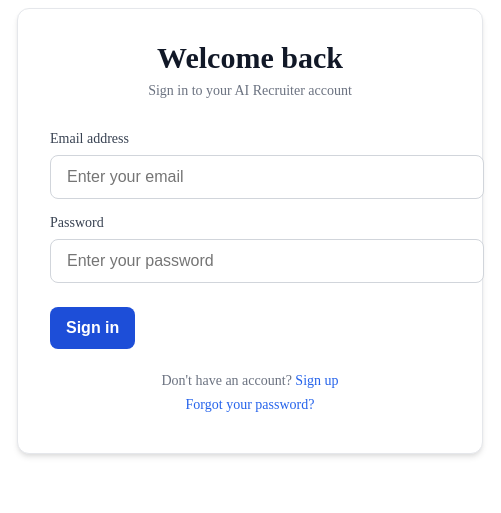
Scenario: LoginForm › validates required fields and formats
This screenshot has width=501, height=513.
Click the button "Sign in": (93, 328) [50,307,135,349]
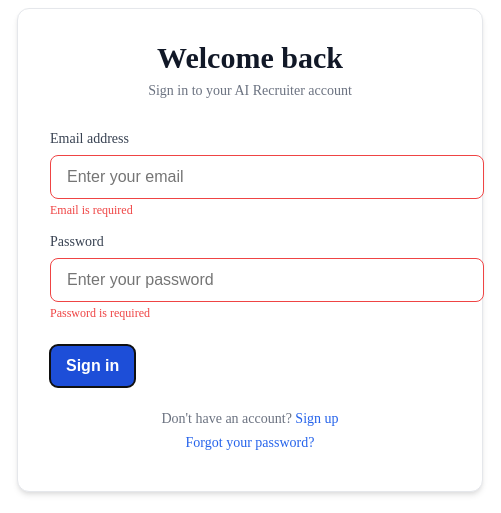
Expected: the text "Email is required" is shown, [50,203,133,217]
Expected: the text "Password is required" is shown, [50,306,150,320]
# Enter invalid email and short password
In the field labelled "Email address": (267, 177) [50,155,484,199], type "invalid"
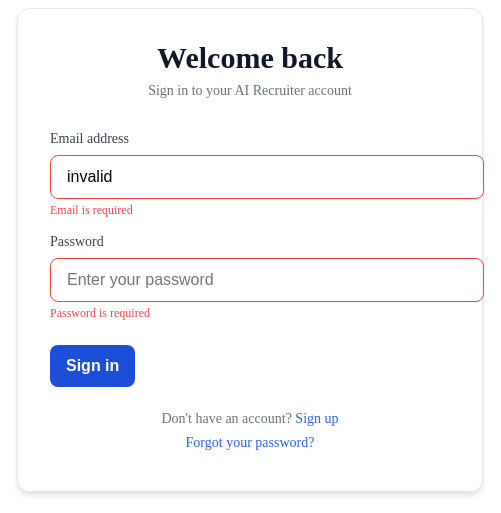
In the password field labelled "Password": (267, 280) [50,258,484,302], type "123"
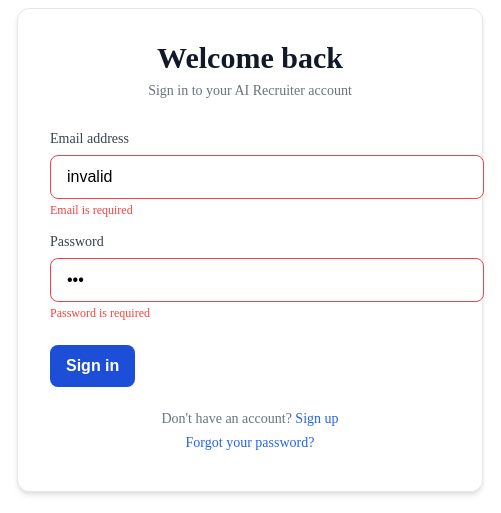
Click the button "Sign in": (93, 366) [50,345,135,387]
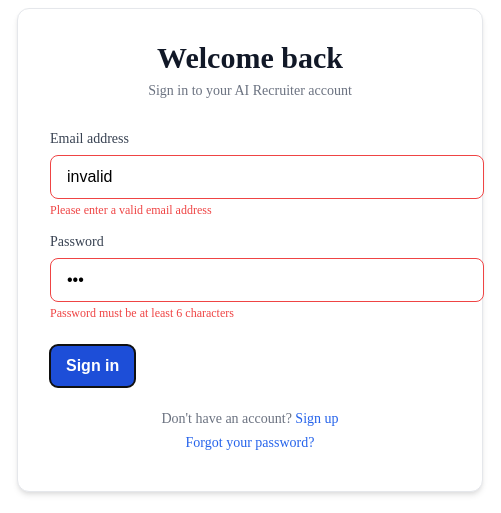
Expected: the text "Please enter a valid email address" is shown, [50,203,212,217]
Expected: the text "Password must be at least 6 characters" is shown, [50,306,234,320]
